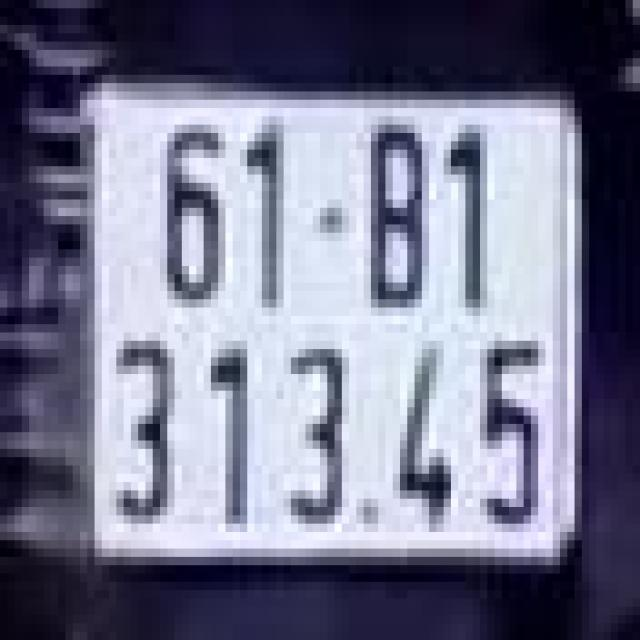1: (200, 332, 265, 532), (436, 121, 494, 320), (243, 112, 294, 320)
3: (109, 337, 182, 528), (280, 341, 353, 524)
4: (389, 328, 462, 528)
5: (476, 332, 549, 524)
6: (160, 120, 233, 312)
B: (360, 116, 433, 316)
